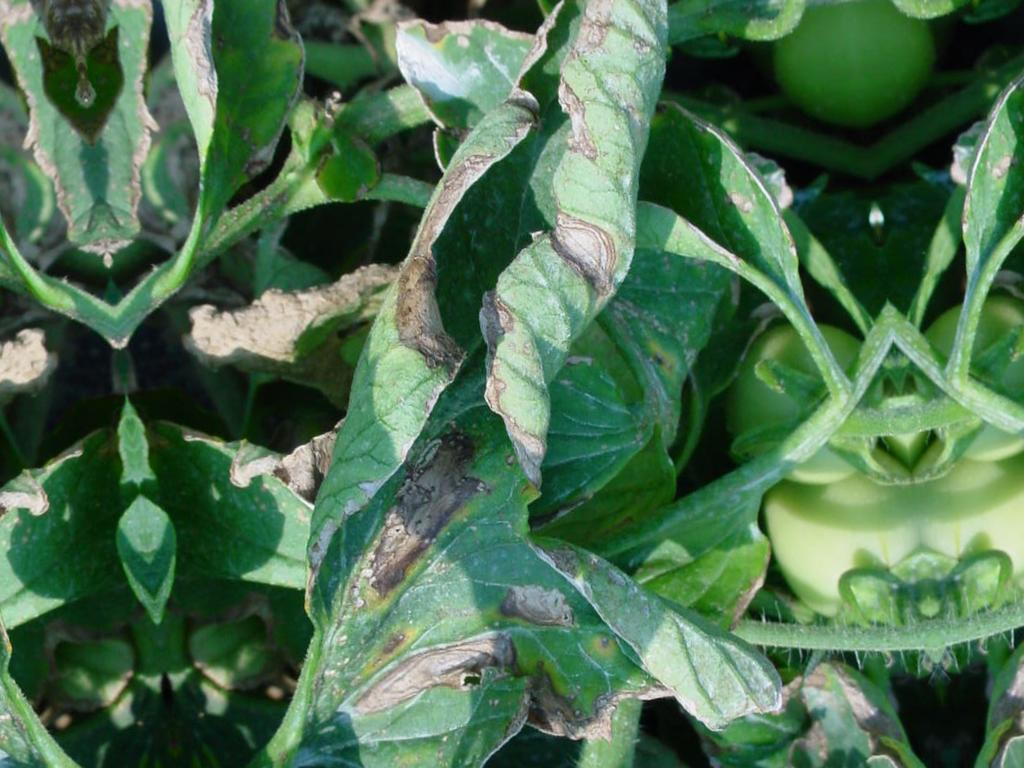Tomato leaf bacterial spot: (113, 0, 825, 768)
